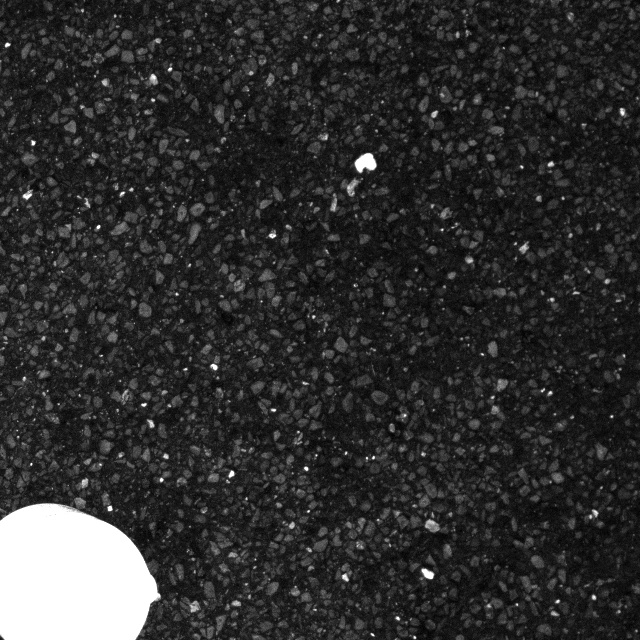can: (0, 494, 162, 640)
